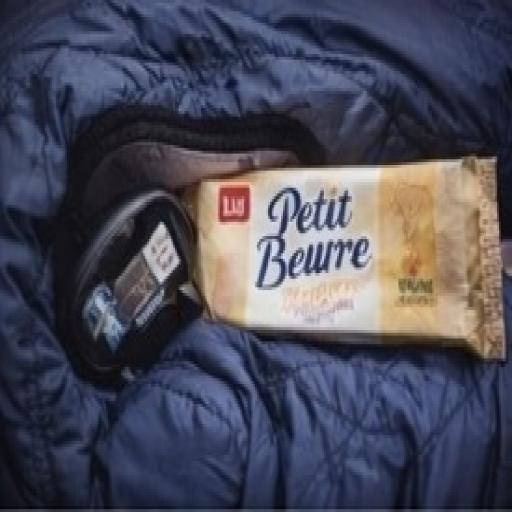petit_beurre: (133, 102, 503, 449)
